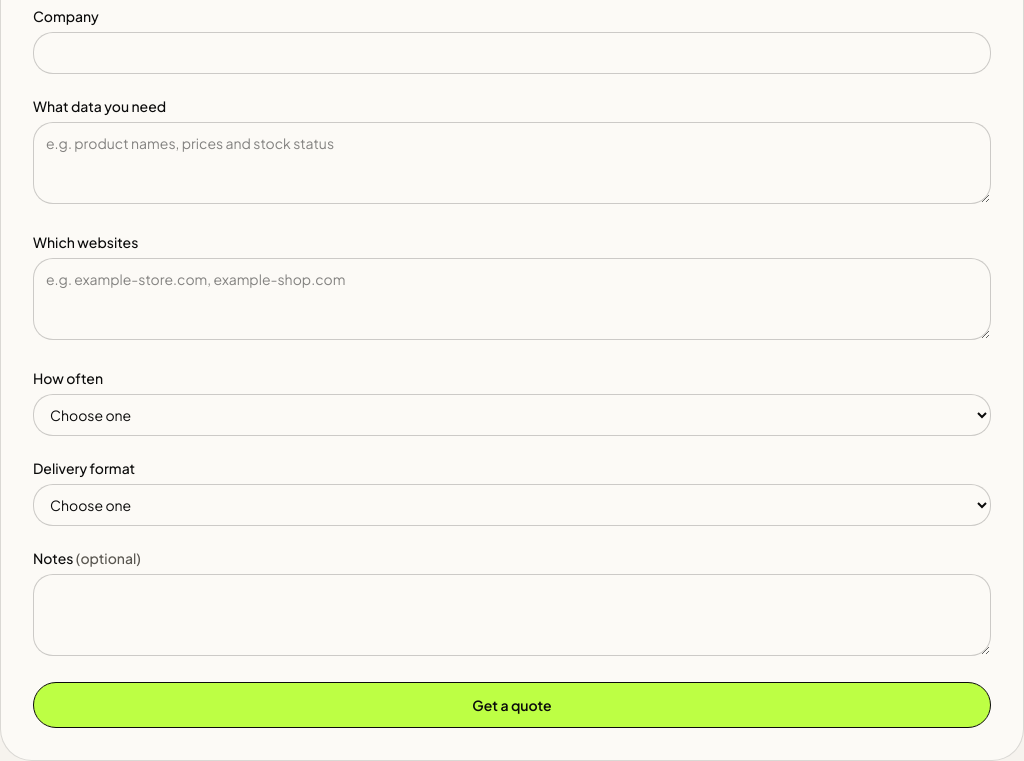
Quote form › shows a validation message per empty field
This screenshot has width=1024, height=761.
(page scrolled)
Click the button "Get a quote". click: (512, 705)
box: [33, 682, 991, 728]
(page scrolled)
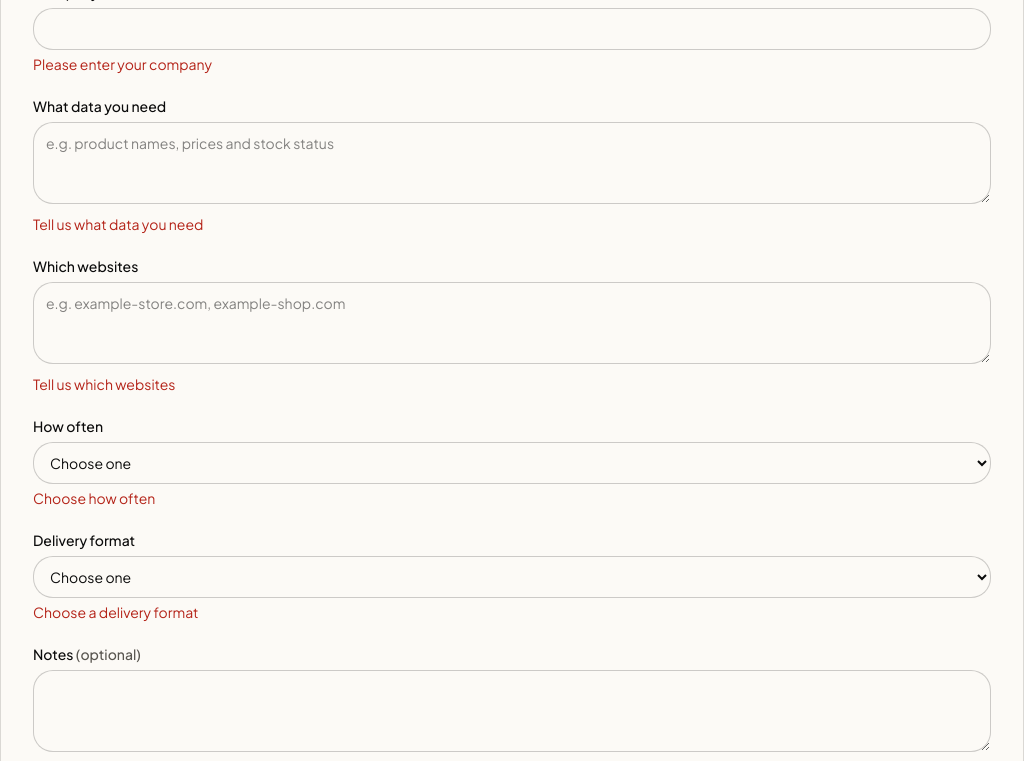
expect the text "Choose how often" is shown: met, box [33, 489, 155, 507]
expect the text "Choose a delivery format" is shown: met, box [33, 603, 198, 621]
